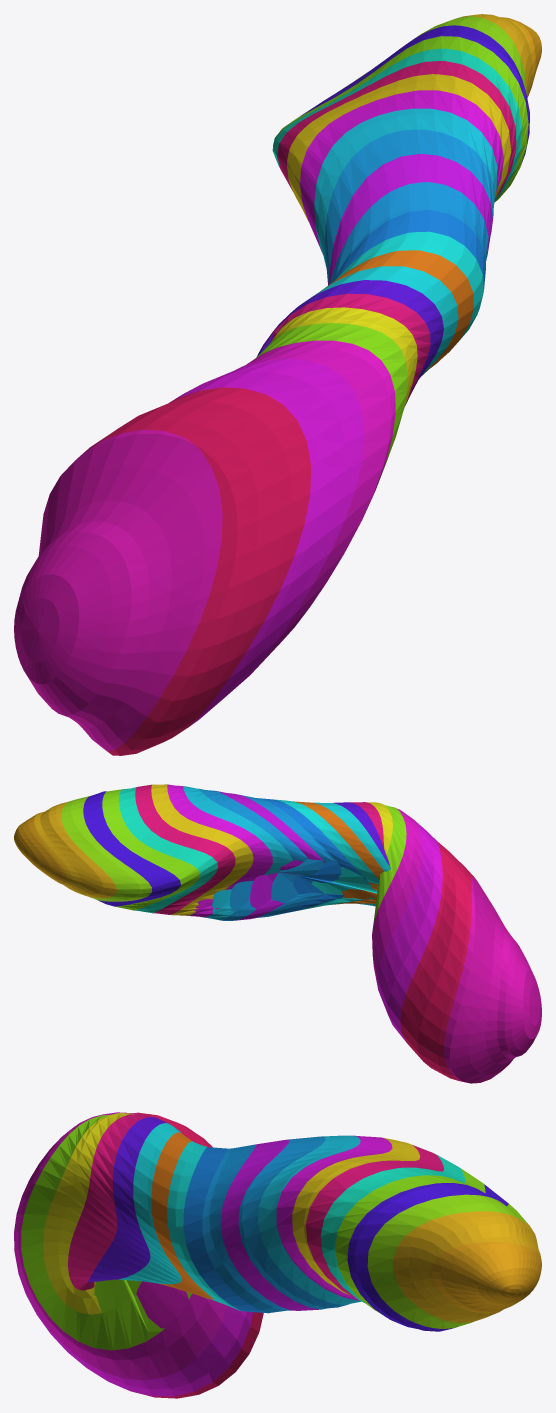
The model's file is pancreas-male-uf.glb.
3 renders of one model, top to bottom at view 1: azimuth 30°, elevation 25°; view 2: azimuth 150°, elevation 25°; view 3: azimuth 270°, elevation 25°, orthographic. The views are drawn at different scales.
Visible parts, largest first — view 1: world; view 2: world; view 3: world.
Boxes of the visible parts, x1=… form: world: x1=14, y1=14, x2=541, y2=755; world: x1=14, y1=784, x2=541, y2=1083; world: x1=14, y1=1112, x2=541, y2=1398.
Size of the model in its own units: 0.1115 by 0.0719 by 0.0811.
